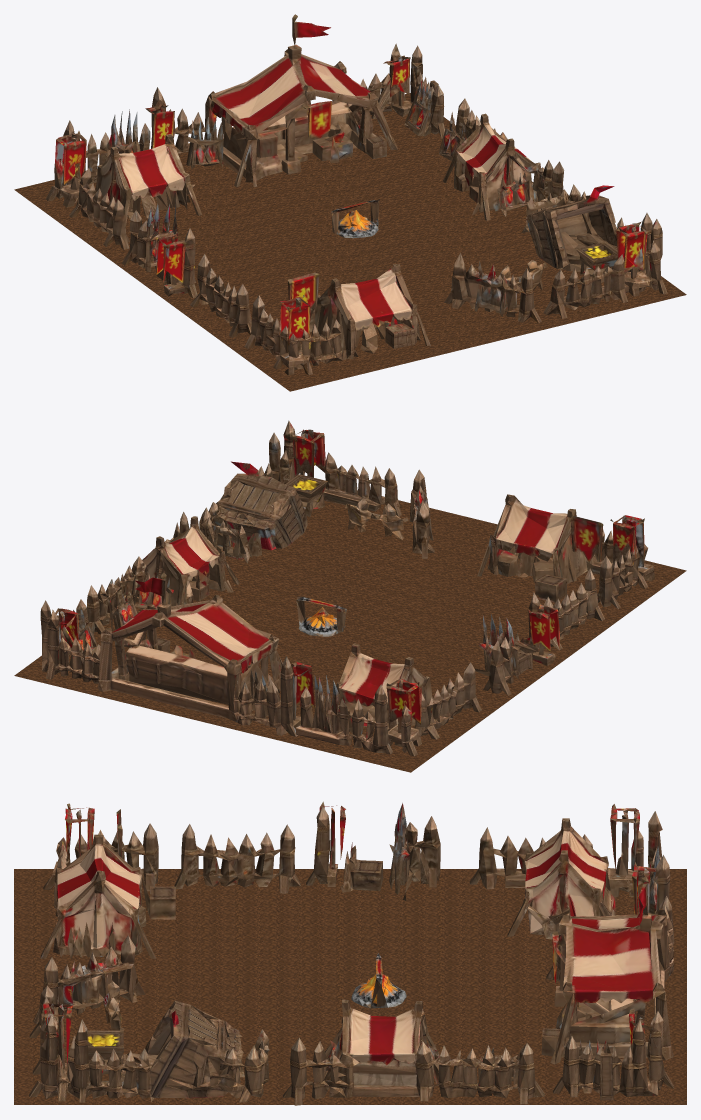
Rendered from Militarycamplvl1.glb.
3 views of the same model, one above another, from view 1: azimuth 30°, elevation 25°; view 2: azimuth 150°, elevation 25°; view 3: azimuth 270°, elevation 25° (orthographic). The views are drawn at different scales.
Parts seen in each view (by area): view 1: output_unwrapped, Plane, output_unwrapped.001; view 2: output_unwrapped, Plane, output_unwrapped.001; view 3: output_unwrapped, Plane, output_unwrapped.001.
Boxes of the visible parts, left/top/right/bottom form: output_unwrapped: left=46, top=14, right=667, bottom=375; Plane: left=14, top=93, right=686, bottom=391; output_unwrapped.001: left=444, top=252, right=541, bottom=323; output_unwrapped: left=40, top=420, right=655, bottom=756; Plane: left=14, top=486, right=686, bottom=772; output_unwrapped.001: left=409, top=469, right=434, bottom=558; output_unwrapped: left=29, top=801, right=674, bottom=1105; Plane: left=14, top=869, right=686, bottom=1104; output_unwrapped.001: left=33, top=935, right=145, bottom=1023.
Size of the model in its own units: 1.67 by 0.4983 by 2.
2 materials, 2 textured.
